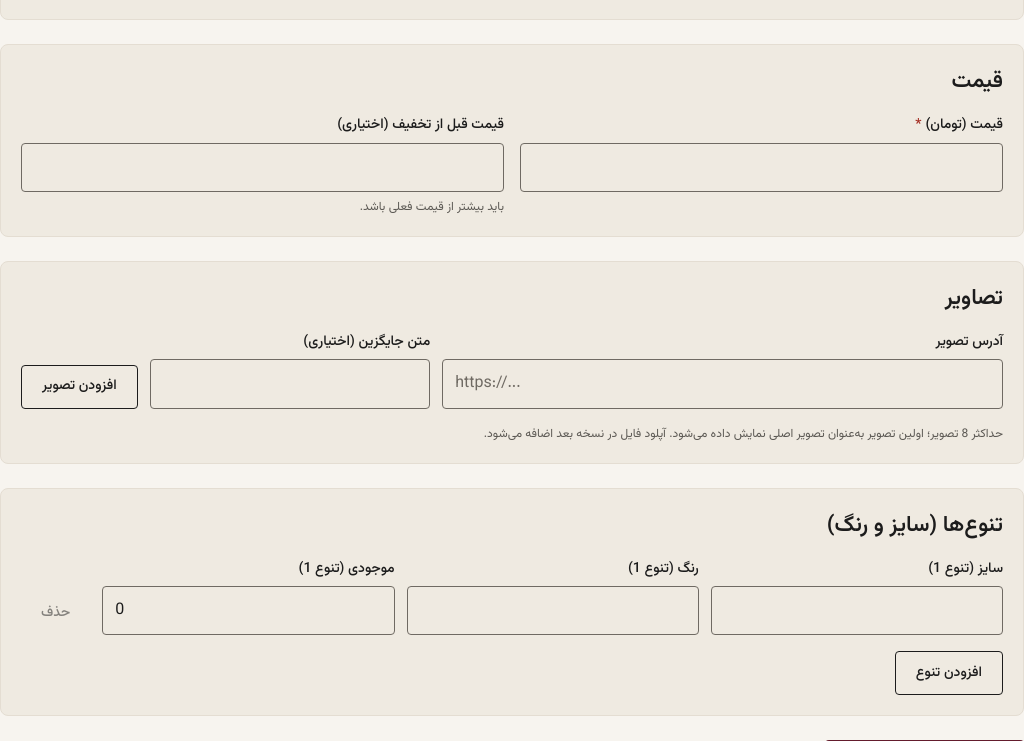
Test case: ساخت محصول › افزودن تصویر با آدرس نامعتبر خطا می‌دهد و آدرس معتبر اضافه می‌شود
(page scrolled)
Type "javascript:alert(1)" into the field labelled "آدرس تصویر". click: (723, 384)
box: [442, 359, 1003, 409]
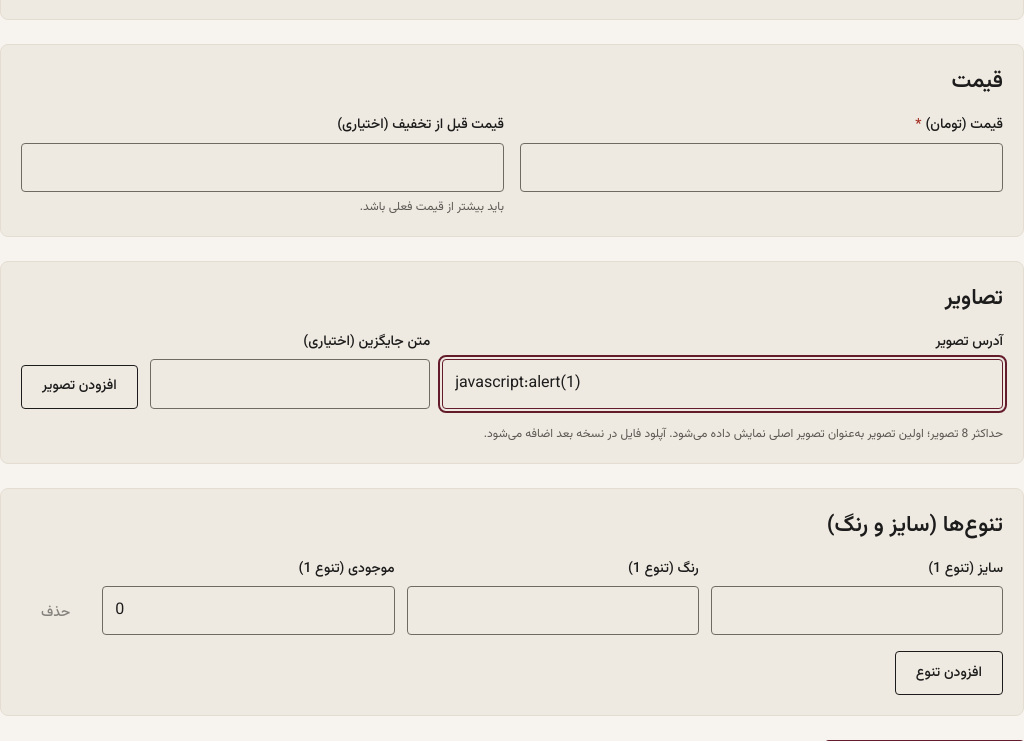
Click the button "افزودن تصویر". click: (79, 387)
box: [21, 365, 138, 409]
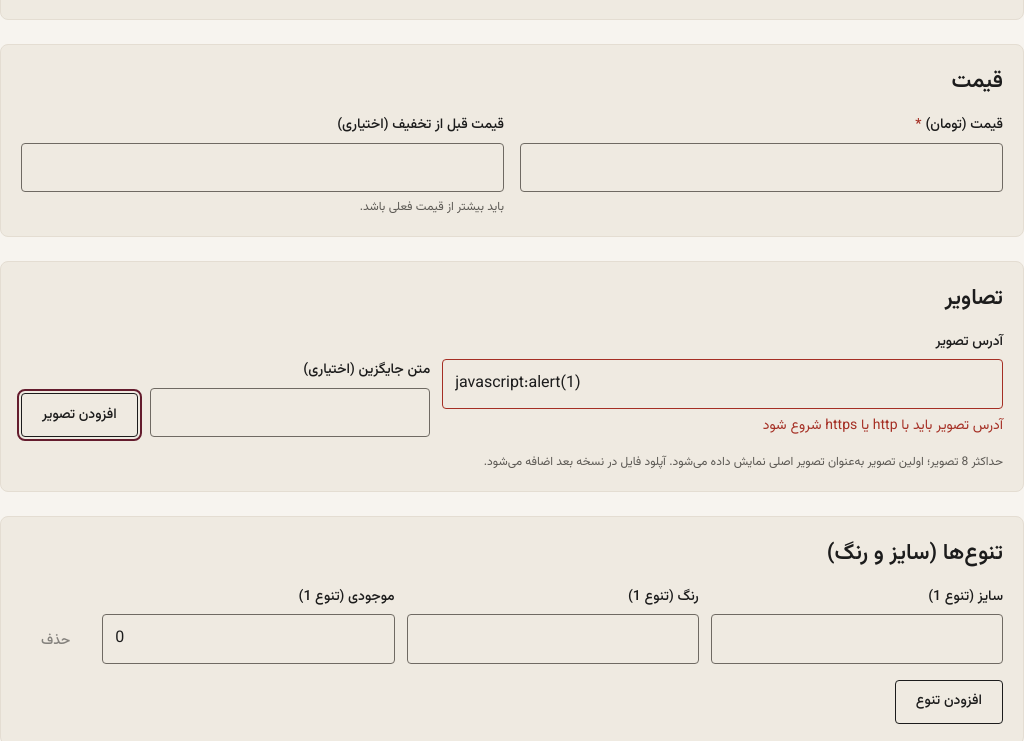
Replace the text in the field labelled "آدرس تصویر" with "https://cdn.example.com/a.jpg". click: (723, 384)
box: [442, 359, 1003, 409]
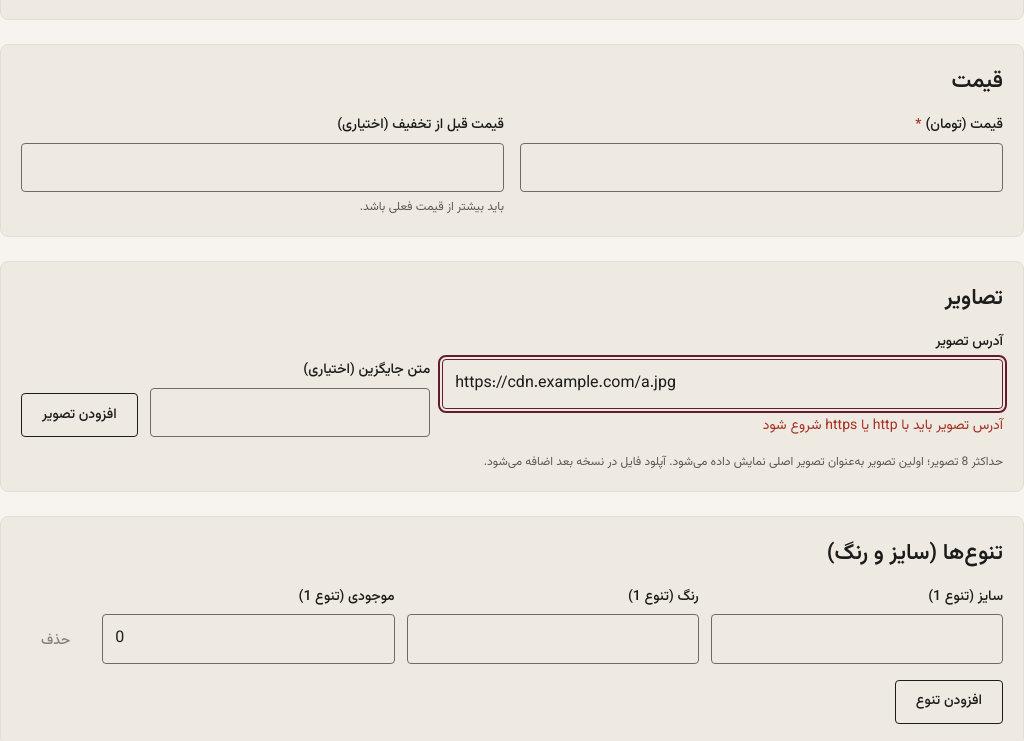
Click the button "افزودن تصویر". click: (79, 415)
box: [21, 393, 138, 437]
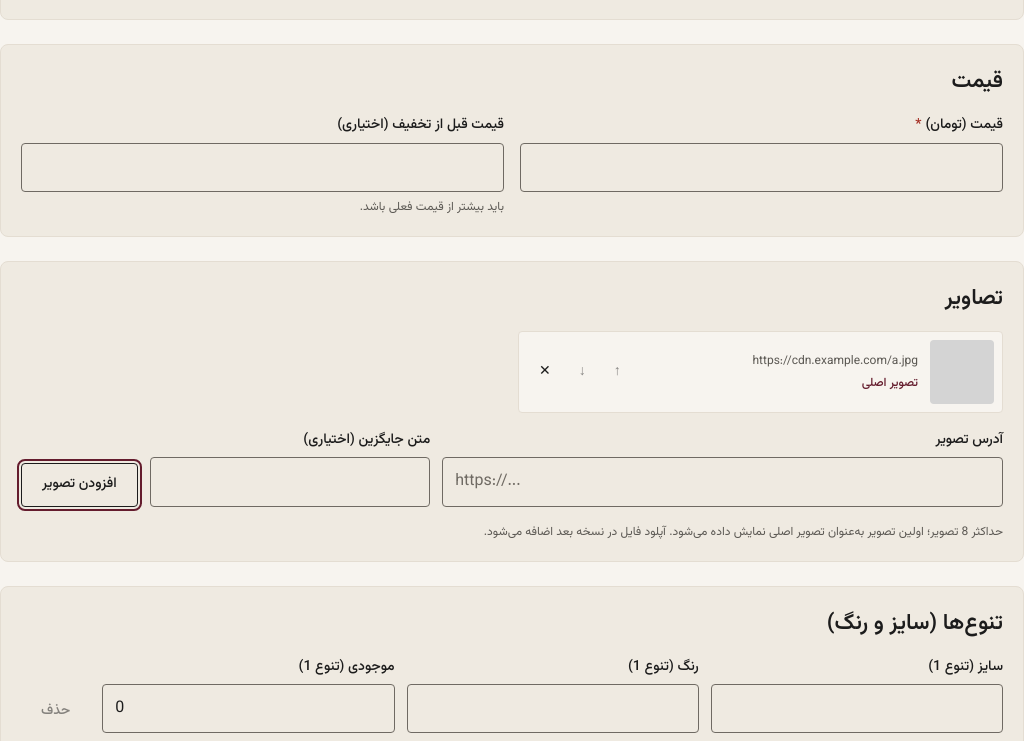
Now the list named "تصاویر محصول" is shown, box [518, 331, 1003, 413]
Now the text "تصویر اصلی" is shown, box [862, 374, 918, 392]
